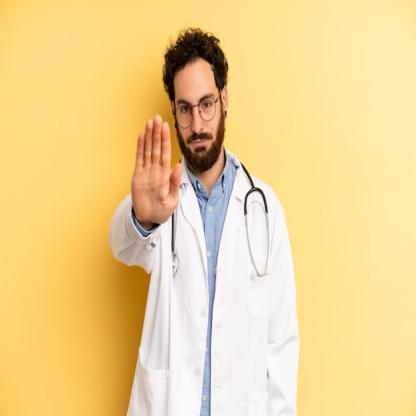stop: (130, 112, 184, 229)
